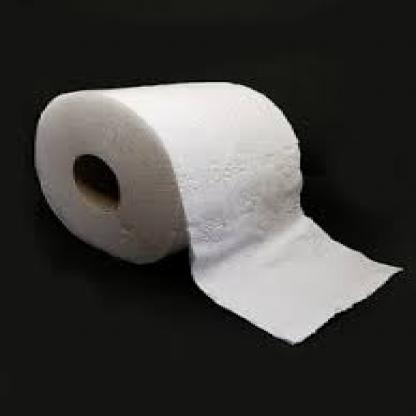tissue: (33, 78, 331, 289)
